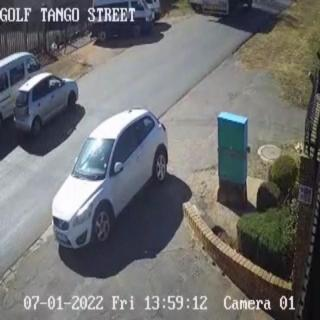car: (52, 112, 183, 256), (11, 70, 84, 149), (0, 51, 41, 128), (89, 0, 153, 41)
